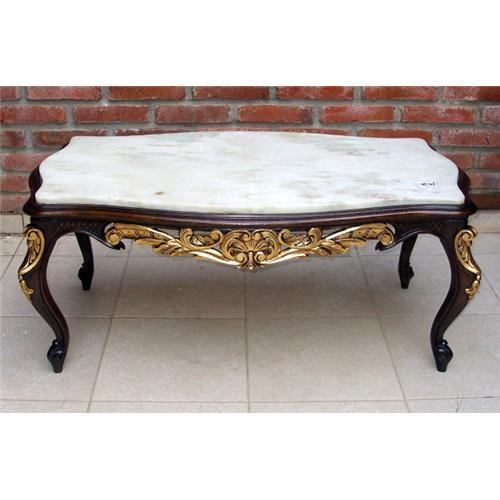Carving Table: (23, 122, 479, 371)
